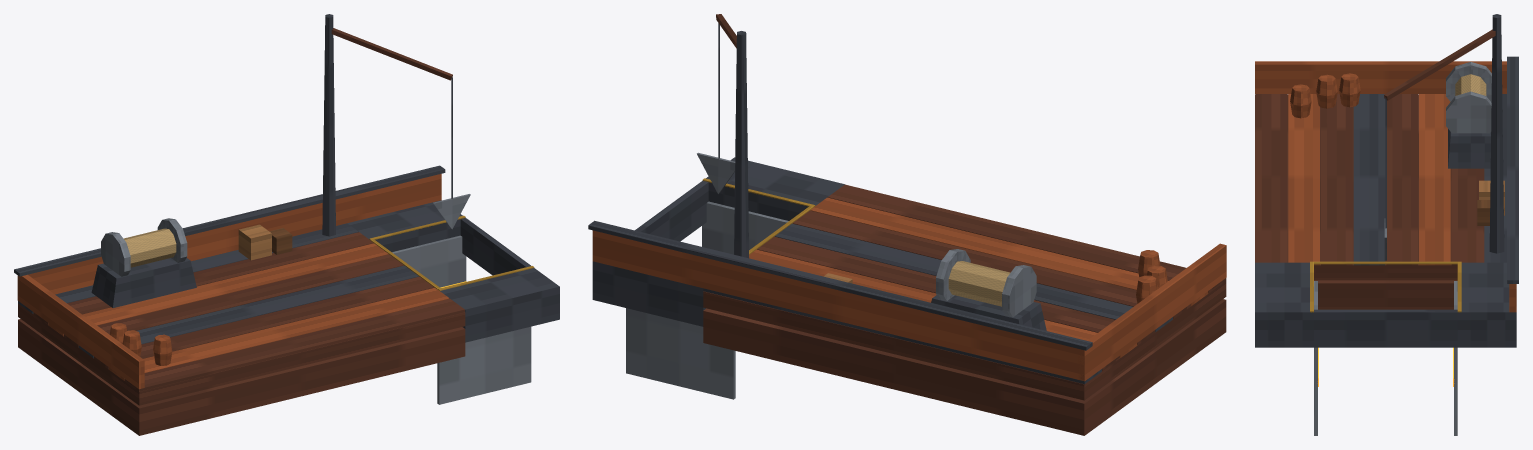
The model's file is SM_Env_ScrapDeck_HQ.glb.
3 views of the same model, side by side, from view 1: azimuth 30°, elevation 25°; view 2: azimuth 150°, elevation 25°; view 3: azimuth 270°, elevation 25° (orthographic). The views are drawn at different scales.
Visible parts, largest first — view 1: SM_Env_ScrapDeck_HQ; view 2: SM_Env_ScrapDeck_HQ; view 3: SM_Env_ScrapDeck_HQ.
Boxes of the visible parts, box(x1,y1,x2,y2) form: SM_Env_ScrapDeck_HQ: box(14, 14, 559, 435); SM_Env_ScrapDeck_HQ: box(588, 14, 1226, 435); SM_Env_ScrapDeck_HQ: box(1255, 14, 1518, 435).
Size of the model in its own units: 16.2 by 12.1 by 8.07.
1 material, 1 textured.
